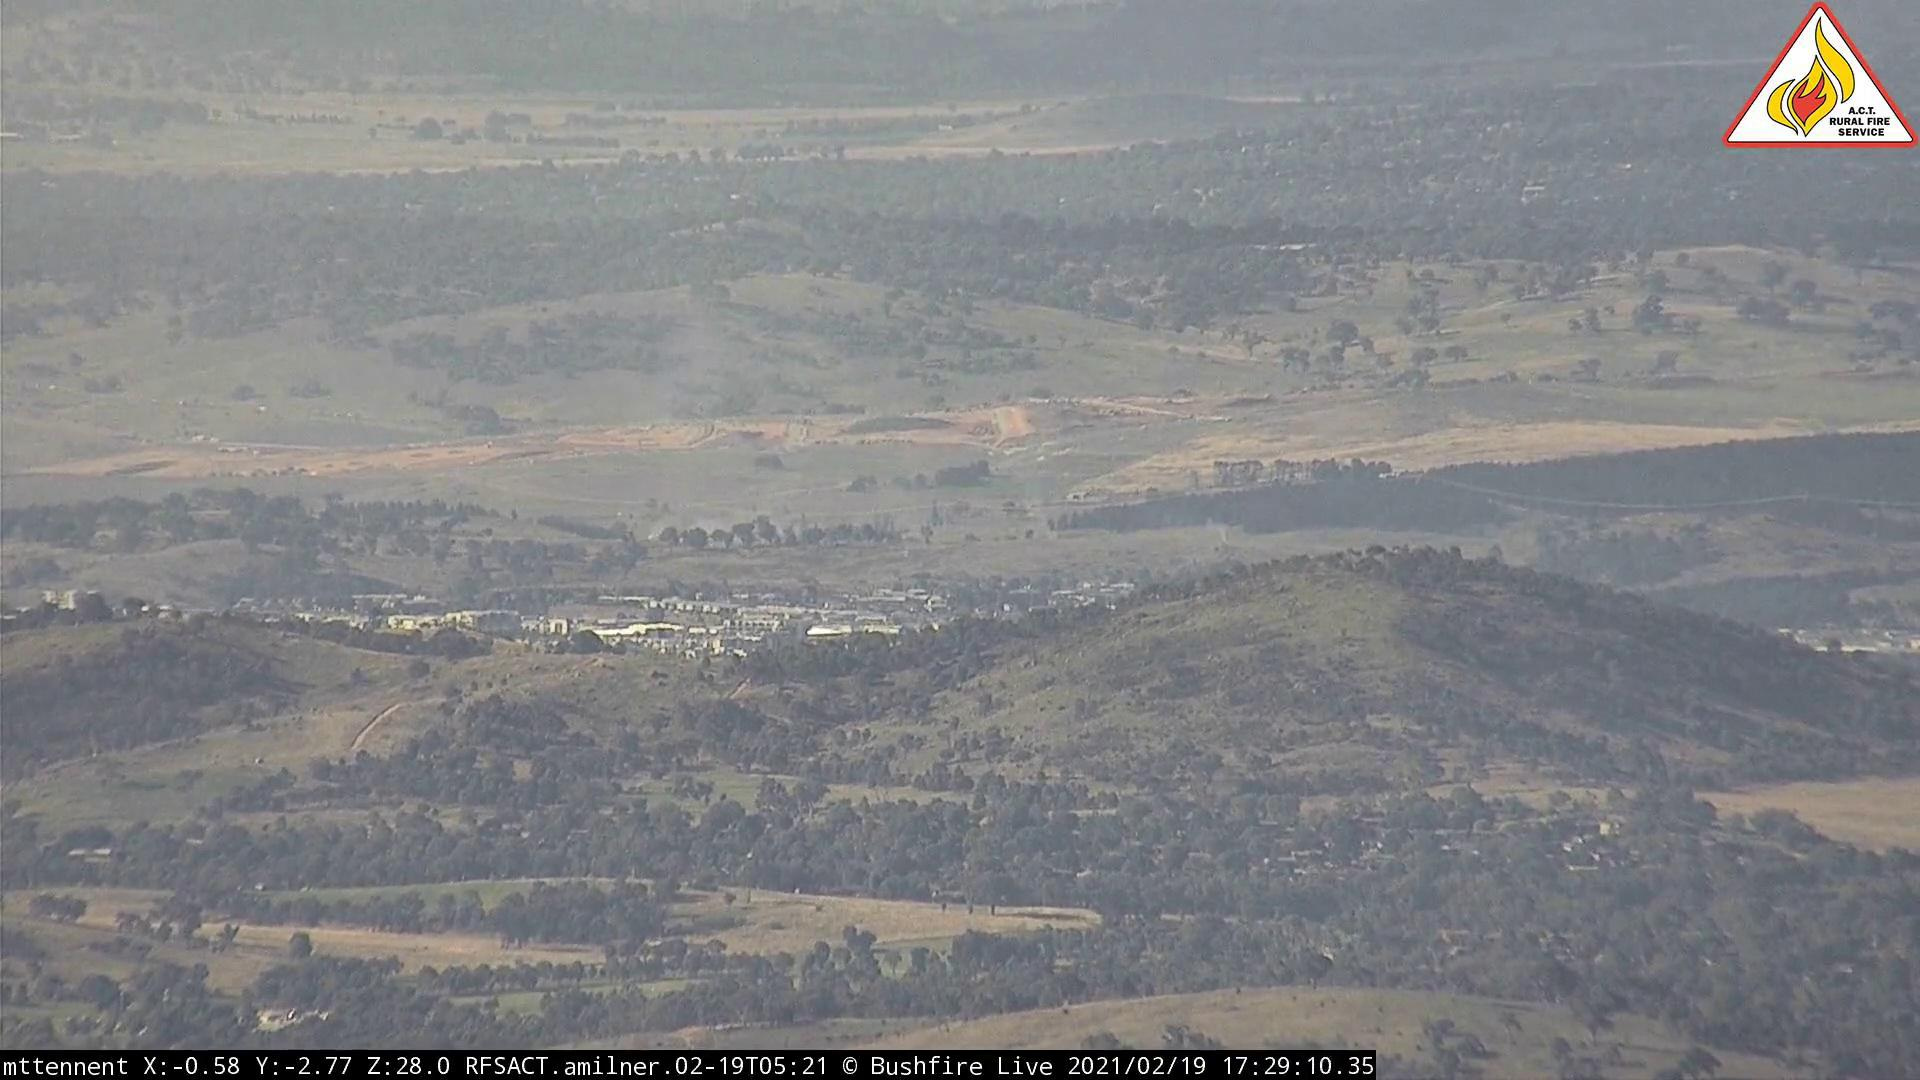Smoke: (644, 471, 781, 547)
